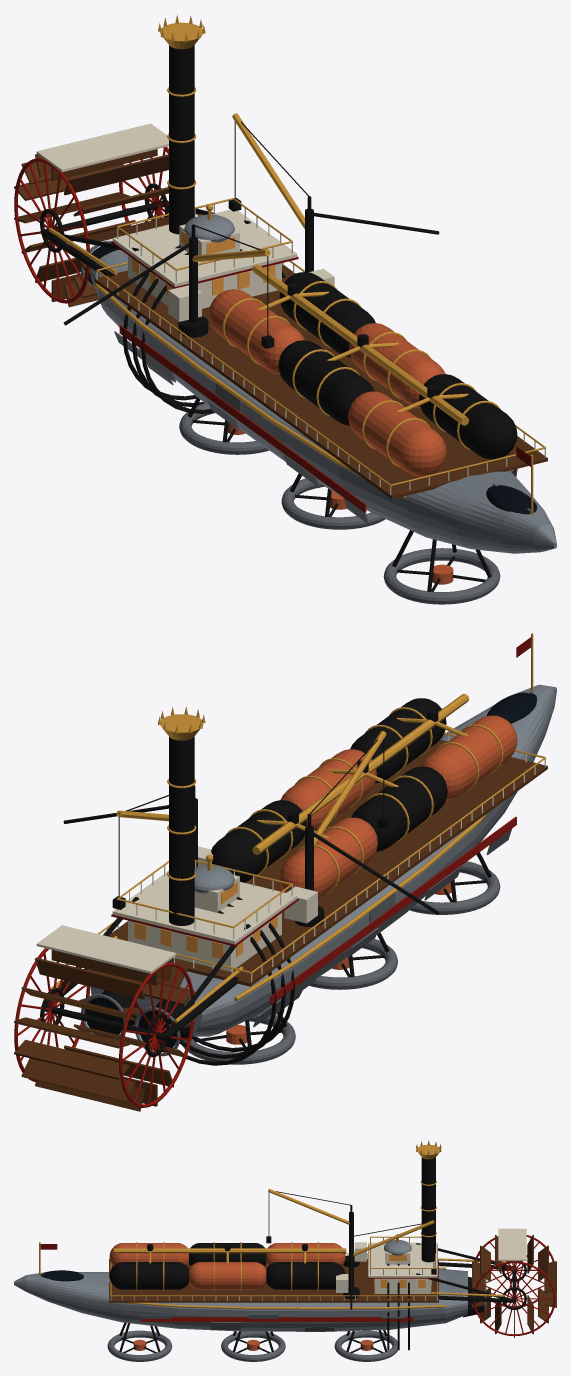
File: steam_tender.obj
3 views of the same model, one above another, from view 1: azimuth 30°, elevation 25°; view 2: azimuth 150°, elevation 25°; view 3: azimuth 270°, elevation 25° (orthographic). The views are drawn at different scales.
Visible parts, largest first — view 1: steam_tender; view 2: steam_tender; view 3: steam_tender.
Boxes of the visible parts, <box> form: steam_tender: <box>14,14,556,604</box>; steam_tender: <box>14,633,556,1111</box>; steam_tender: <box>14,1140,556,1361</box>.
Bounding box in the file's own units: 221 × 207 × 500.
1 material, 1 textured.
